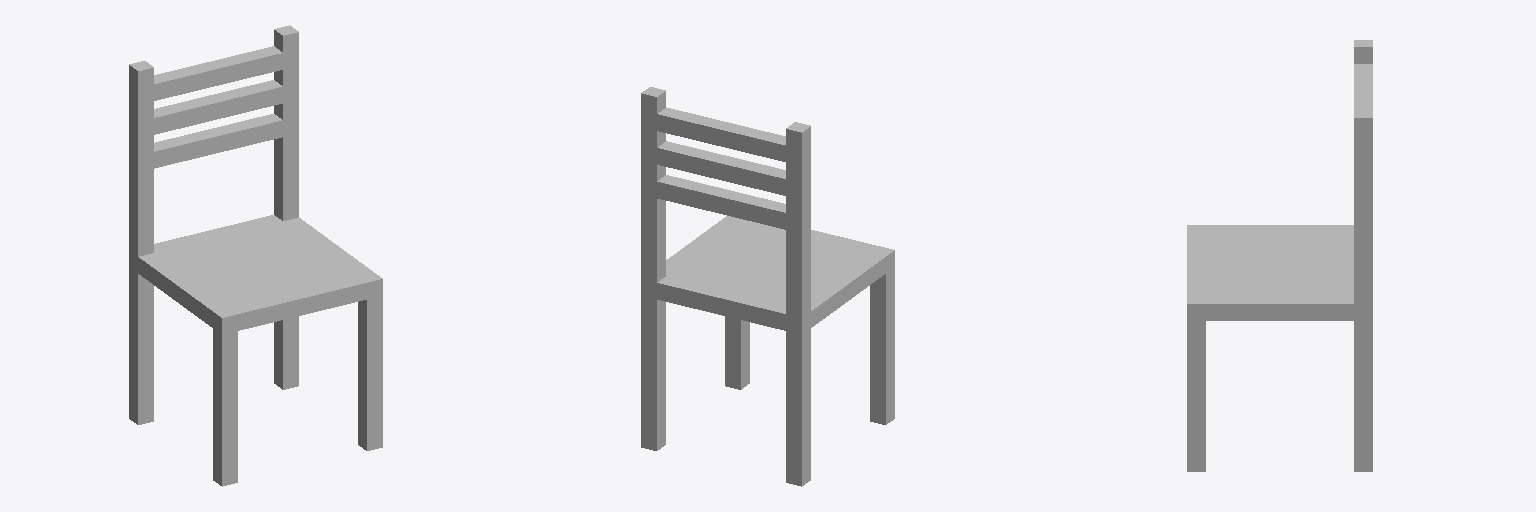
The model's file is chair.obj.
3 views of the same model, side by side, from view 1: azimuth 30°, elevation 25°; view 2: azimuth 150°, elevation 25°; view 3: azimuth 270°, elevation 25° (orthographic).
Parts seen in each view (by area): view 1: chair; view 2: chair; view 3: chair.
Part boxes in pixels (x1,y1,x2,y2): chair: (129,25,382,486); chair: (641,87,894,486); chair: (1187,40,1372,471).
Size of the model in its own units: 10 by 21 by 10.